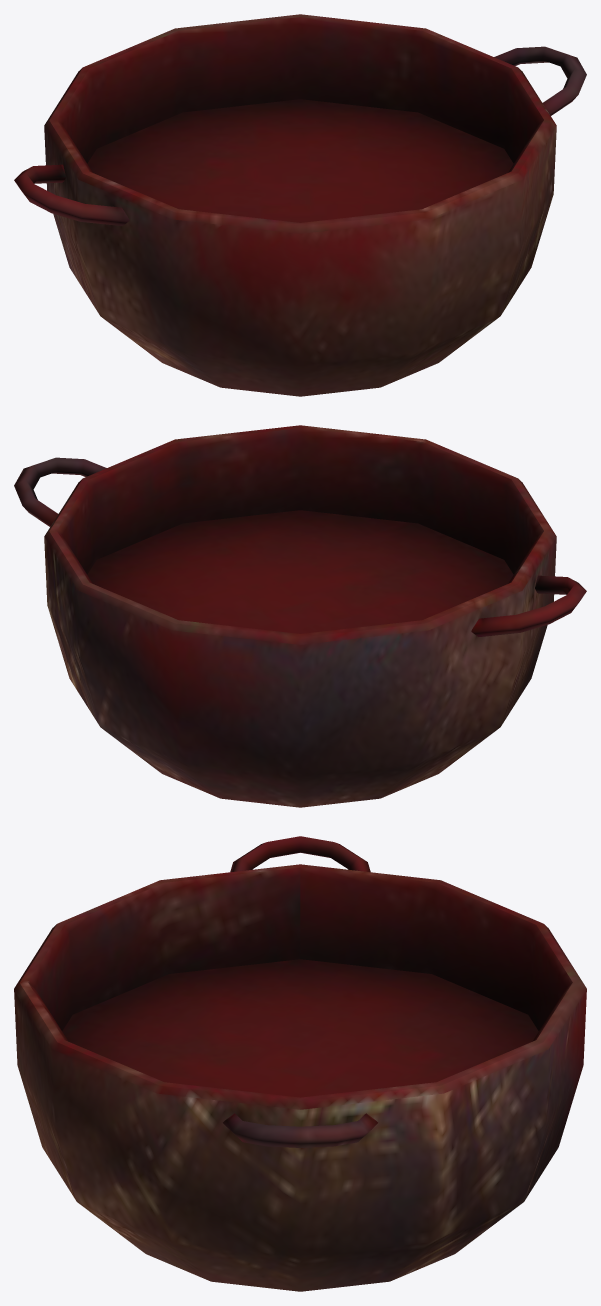
The model's file is BloodyVessel.FBX.
The picture shows the model from 3 angles, top to bottom: view 1: azimuth 30°, elevation 25°; view 2: azimuth 150°, elevation 25°; view 3: azimuth 270°, elevation 25°; orthographic projection. The views are drawn at different scales.
Parts seen in each view (by area): view 1: BloodyVessel; view 2: BloodyVessel; view 3: BloodyVessel.
Part boxes in pixels (<box>): BloodyVessel: <box>14,14,586,396</box>; BloodyVessel: <box>14,425,586,807</box>; BloodyVessel: <box>14,836,586,1291</box>.
Size of the model in its own units: 61.04 by 24.55 by 48.93.
